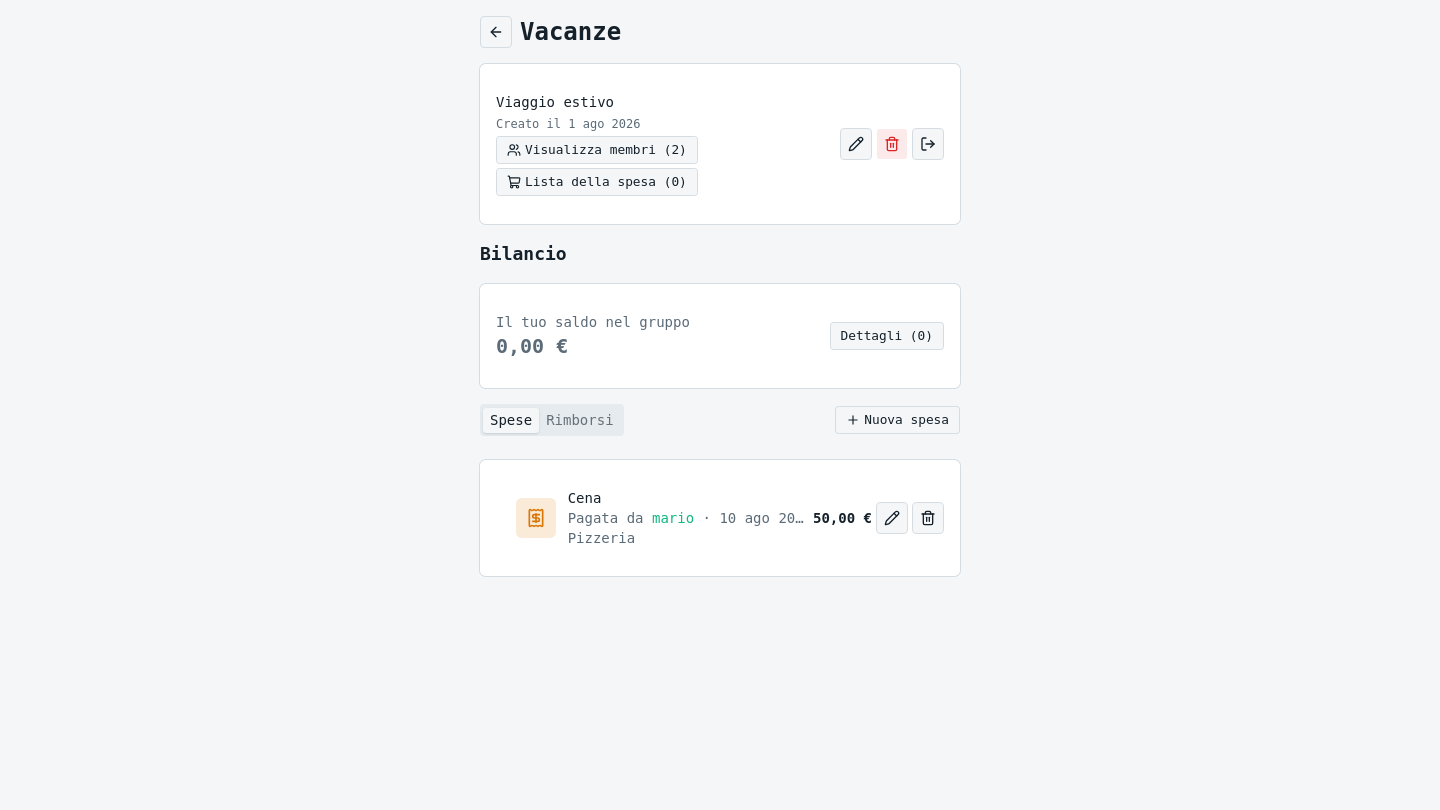
GroupDetailPage › cliccando una spesa si apre il dettaglio in sola lettura
Click the text "Cena". click: (585, 498)
box: [568,490,601,506]
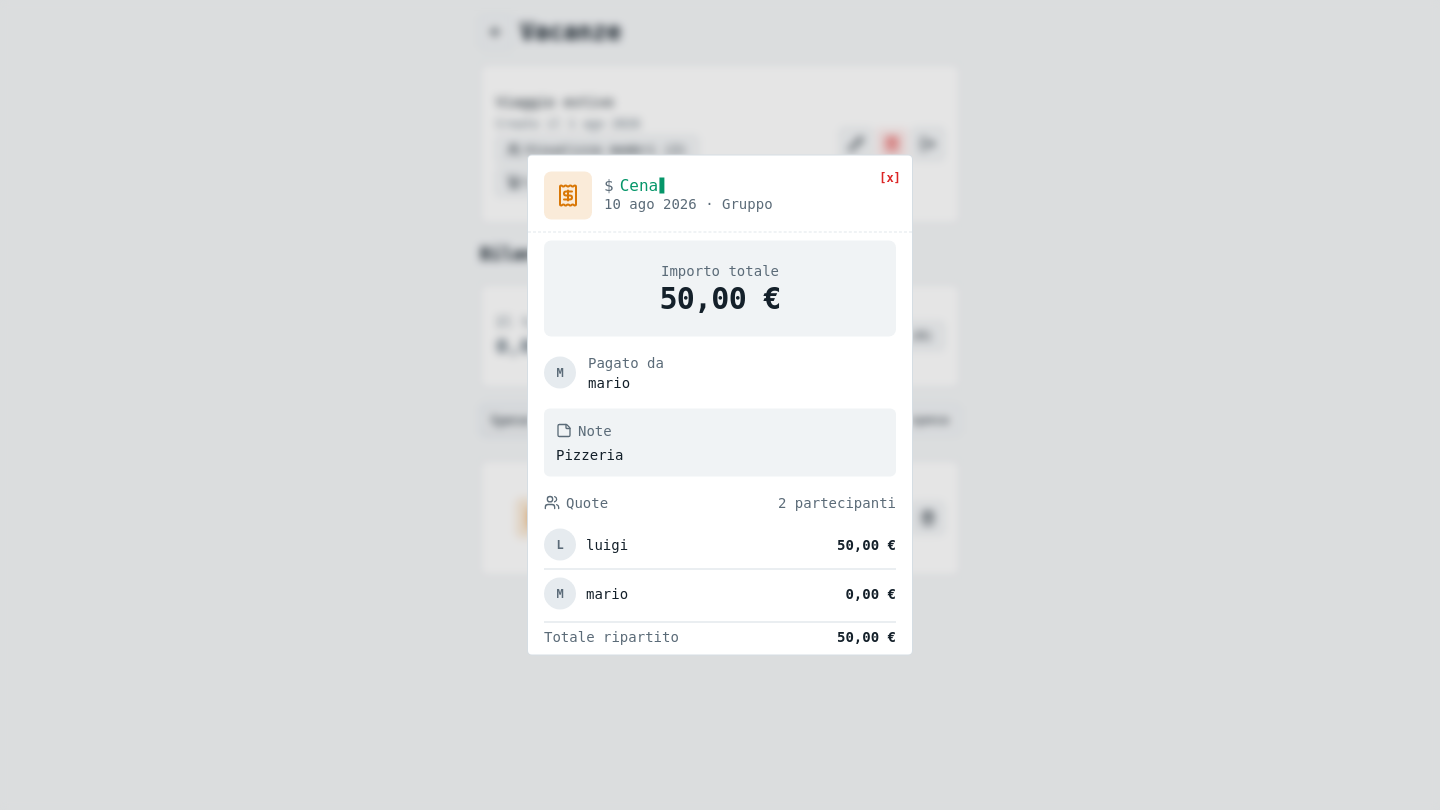
Result: the text "10 ago 2026 · Gruppo" is shown at [604,194,773,214]
Result: the text "Pagato da" is shown at [588,352,664,372]
Result: the text "Quote" is shown at [566,494,608,510]
